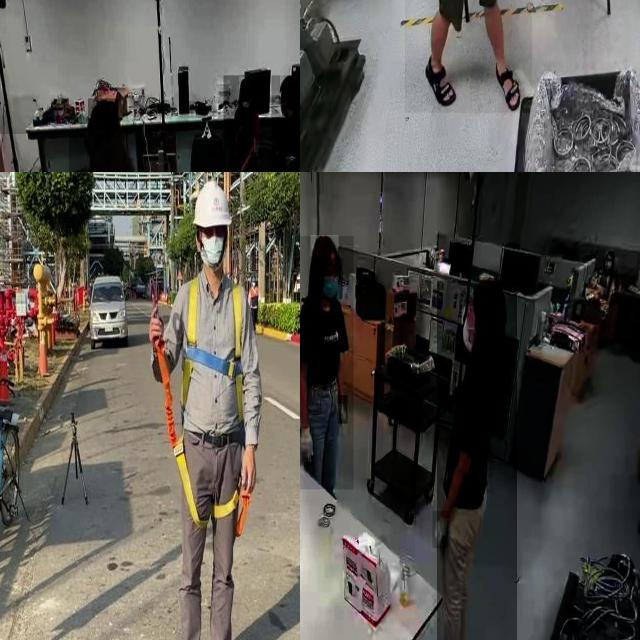Harness: (154, 342, 251, 537), (183, 277, 245, 422)
face_mask: (318, 258, 342, 300), (462, 306, 476, 354), (238, 88, 252, 109), (603, 255, 614, 277)
hand_glove: (432, 511, 450, 549), (300, 426, 314, 466), (338, 395, 348, 425)
hand_noglove: (237, 122, 245, 140), (239, 159, 247, 172)
head_nohelmet: (88, 98, 119, 130), (471, 276, 505, 297), (311, 235, 339, 258), (280, 75, 300, 88), (239, 76, 253, 89), (605, 248, 615, 254)
person: (436, 280, 517, 640), (405, 0, 532, 113), (300, 236, 354, 490), (223, 75, 254, 172), (271, 75, 300, 172)
